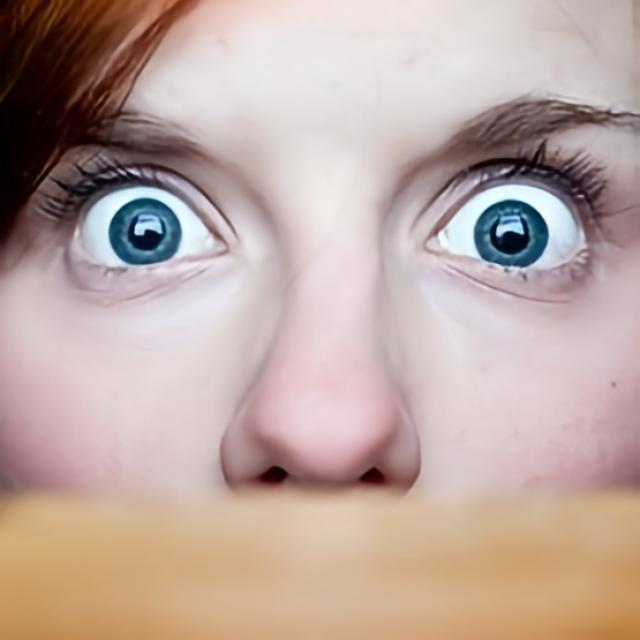surprise: (0, 2, 640, 497)
